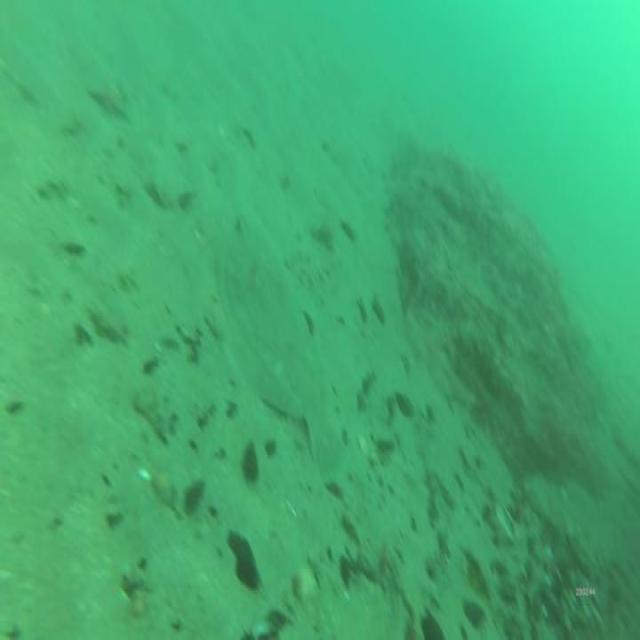starfish: (86, 79, 127, 119)
